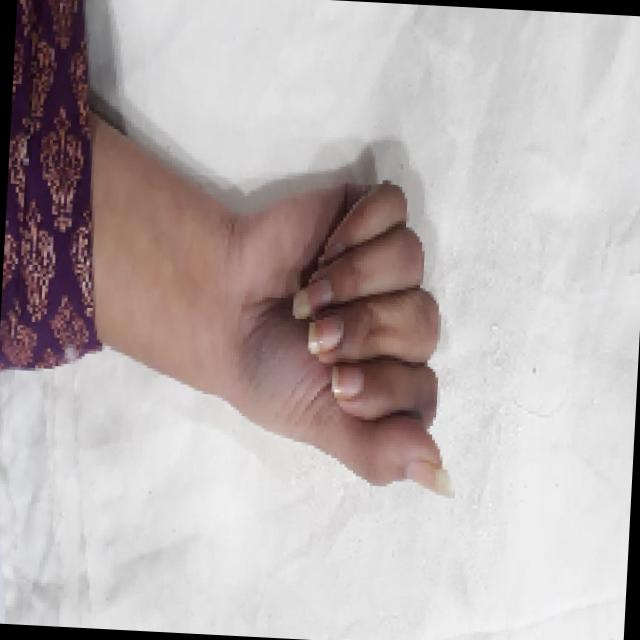Nail: (405, 461, 454, 498), (292, 280, 332, 319), (307, 315, 343, 355), (331, 366, 363, 400), (318, 247, 343, 263)
